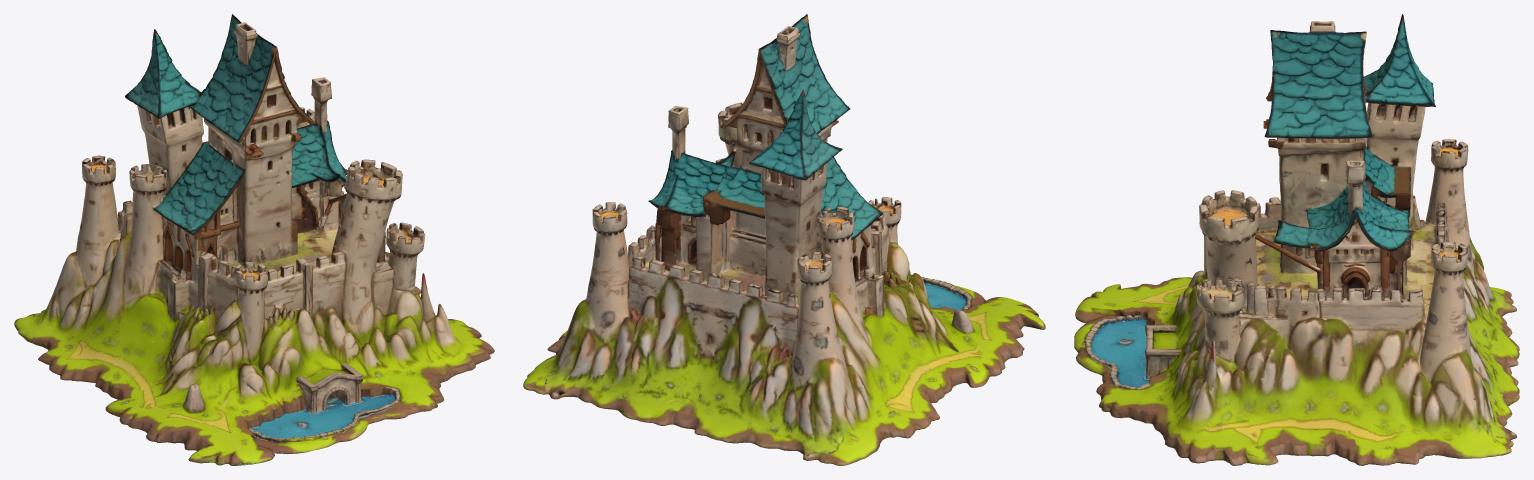
Rendered from Please_provide_an_ima.glb.
3 views of the same model, side by side, from view 1: azimuth 30°, elevation 25°; view 2: azimuth 150°, elevation 25°; view 3: azimuth 270°, elevation 25° (orthographic). The views are drawn at different scales.
Visible parts, largest first — view 1: Please_provide_an_ima; view 2: Please_provide_an_ima; view 3: Please_provide_an_ima.
Boxes of the visible parts, x1,y1,x2,y2 form: Please_provide_an_ima: (14, 14, 494, 465); Please_provide_an_ima: (523, 14, 1045, 465); Please_provide_an_ima: (1074, 14, 1519, 465).
Size of the model in its own units: 1.87 by 1.62 by 1.9.
Materials: 1 (1 with a texture image).
